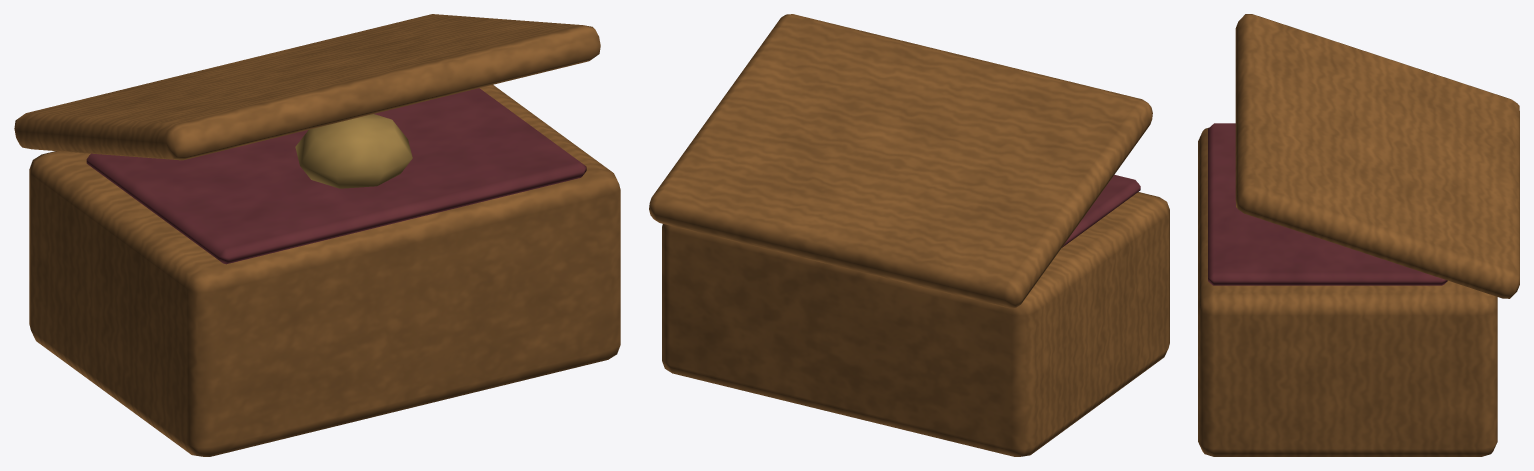
The model's file is Furn_DecorMusicBox.fbx.
3 views of the same model, side by side, from view 1: azimuth 30°, elevation 25°; view 2: azimuth 150°, elevation 25°; view 3: azimuth 270°, elevation 25° (orthographic). The views are drawn at different scales.
Parts seen in each view (by area): view 1: Furn_DecorMusicBox_Mesh; view 2: Furn_DecorMusicBox_Mesh; view 3: Furn_DecorMusicBox_Mesh.
Boxes of the visible parts, x1,y1,x2,y2 form: Furn_DecorMusicBox_Mesh: (14,14,620,456); Furn_DecorMusicBox_Mesh: (649,14,1169,456); Furn_DecorMusicBox_Mesh: (1198,14,1519,456).
Size of the model in its own units: 0.2 by 0.14 by 0.15.
3 materials, 3 textured.
